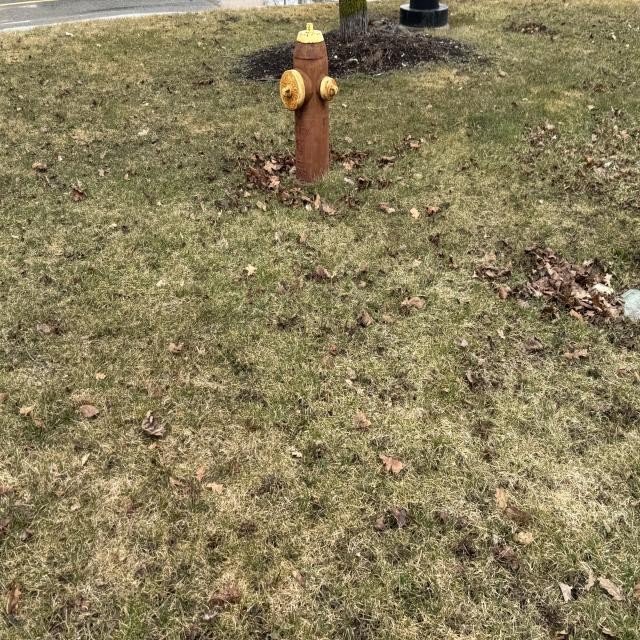Fire hydrant: (279, 22, 339, 187)
